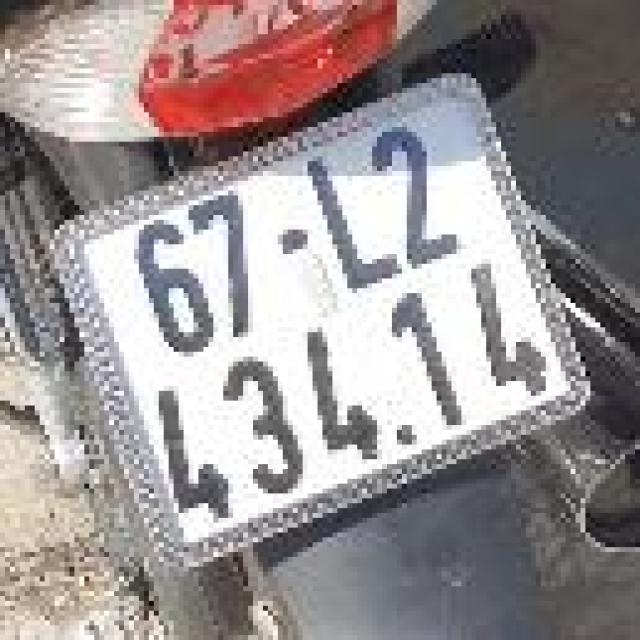1: (368, 279, 484, 445)
2: (353, 107, 484, 279)
3: (203, 337, 322, 512)
4: (445, 239, 568, 414), (285, 313, 397, 481), (140, 367, 245, 539)
6: (118, 206, 226, 366)
7: (181, 183, 289, 351)
L: (282, 128, 410, 306)
